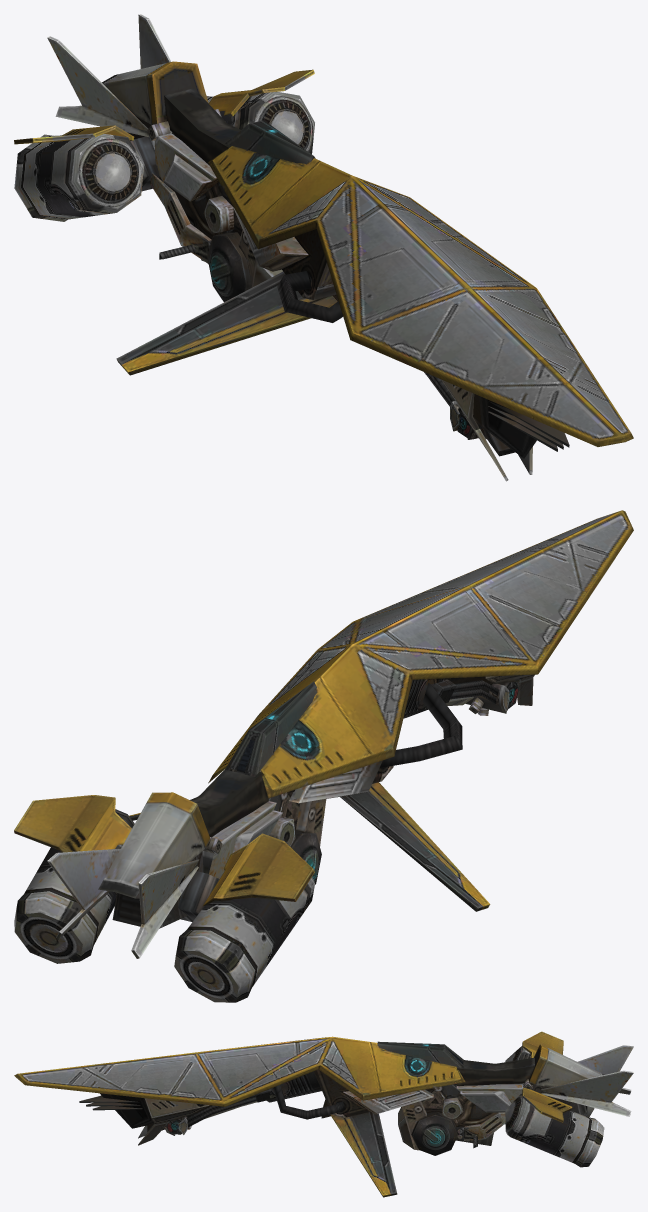
File: nave_inimiga.glb
3 views of the same model, one above another, from view 1: azimuth 30°, elevation 25°; view 2: azimuth 150°, elevation 25°; view 3: azimuth 270°, elevation 25° (orthographic). The views are drawn at different scales.
Visible parts, largest first — view 1: 1P_Mounts_Basic.001; view 2: 1P_Mounts_Basic.001; view 3: 1P_Mounts_Basic.001.
Part boxes in pixels (left/top/right/bottom): 1P_Mounts_Basic.001: left=14, top=14, right=633, bottom=481; 1P_Mounts_Basic.001: left=14, top=510, right=633, bottom=1002; 1P_Mounts_Basic.001: left=14, top=1031, right=633, bottom=1197.
Size of the model in its own units: 1.28 by 0.6375 by 3.26.
Materials: 1 (1 with a texture image).
